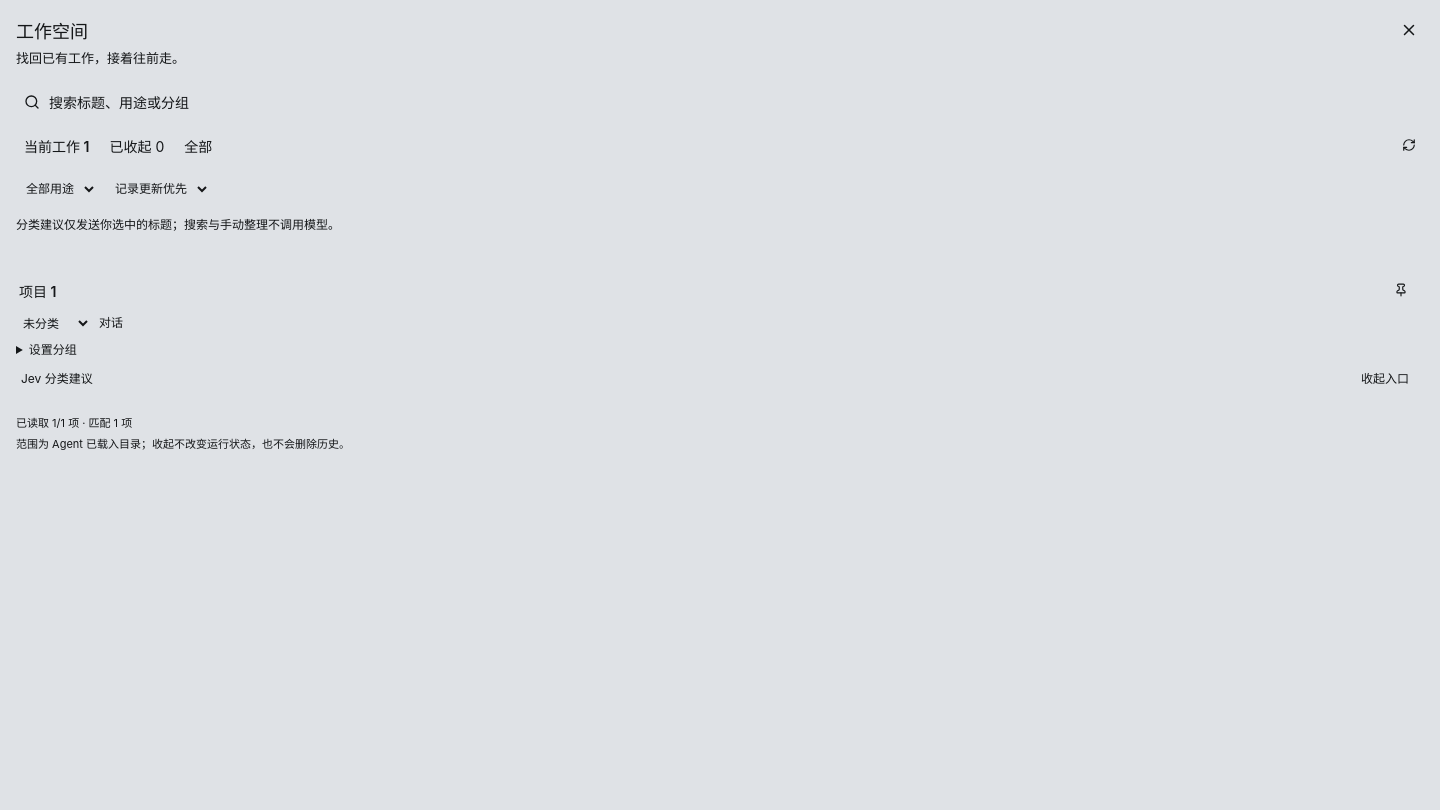
Scenario: OrganizationWorkspace v2.1 integration › syncs a changed stored group while retaining an edited field (edited: false)
Click the heading "设置分组": point(53, 349) [29,342,77,356]
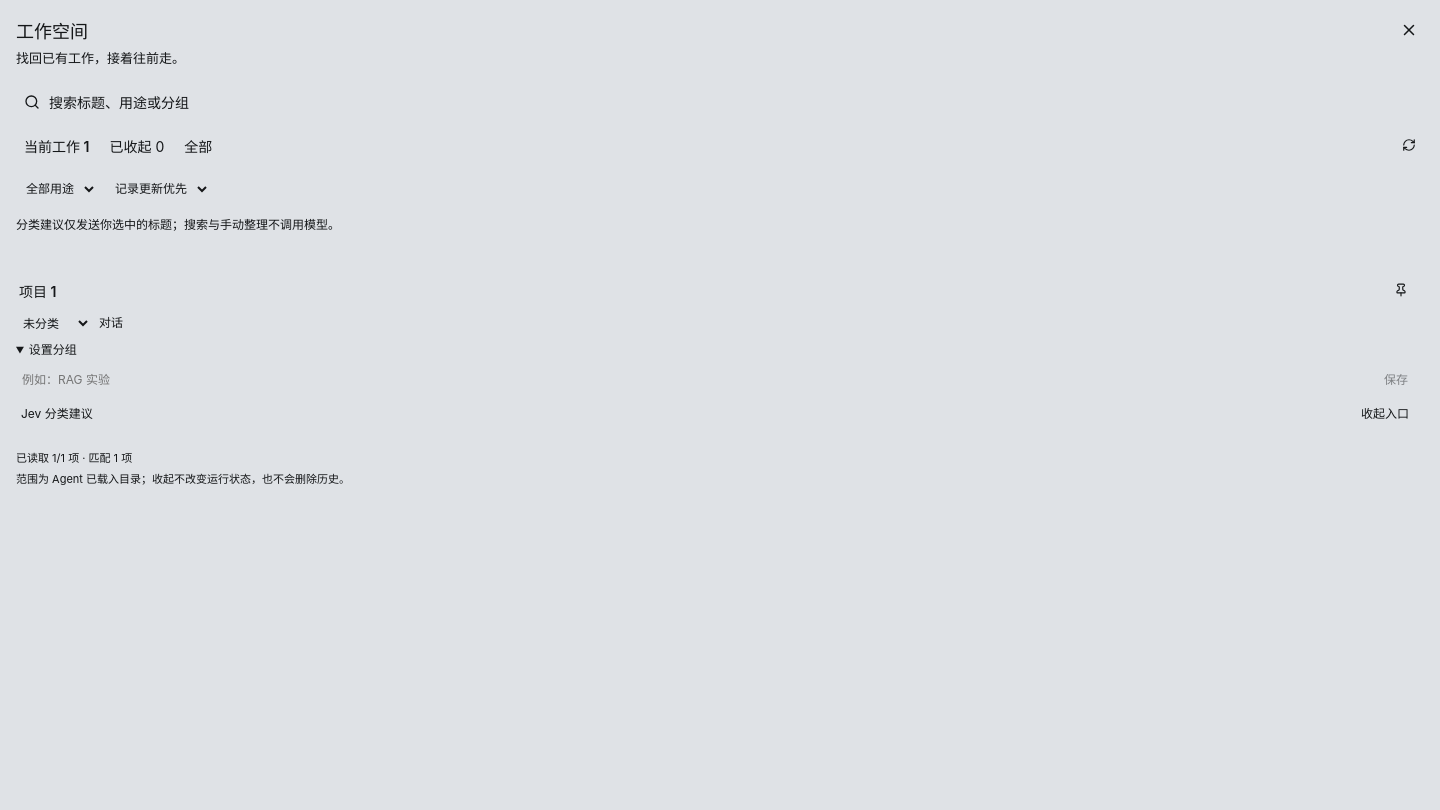
Click the button named "刷新工作目录": point(1409, 146) [1394,132,1424,160]
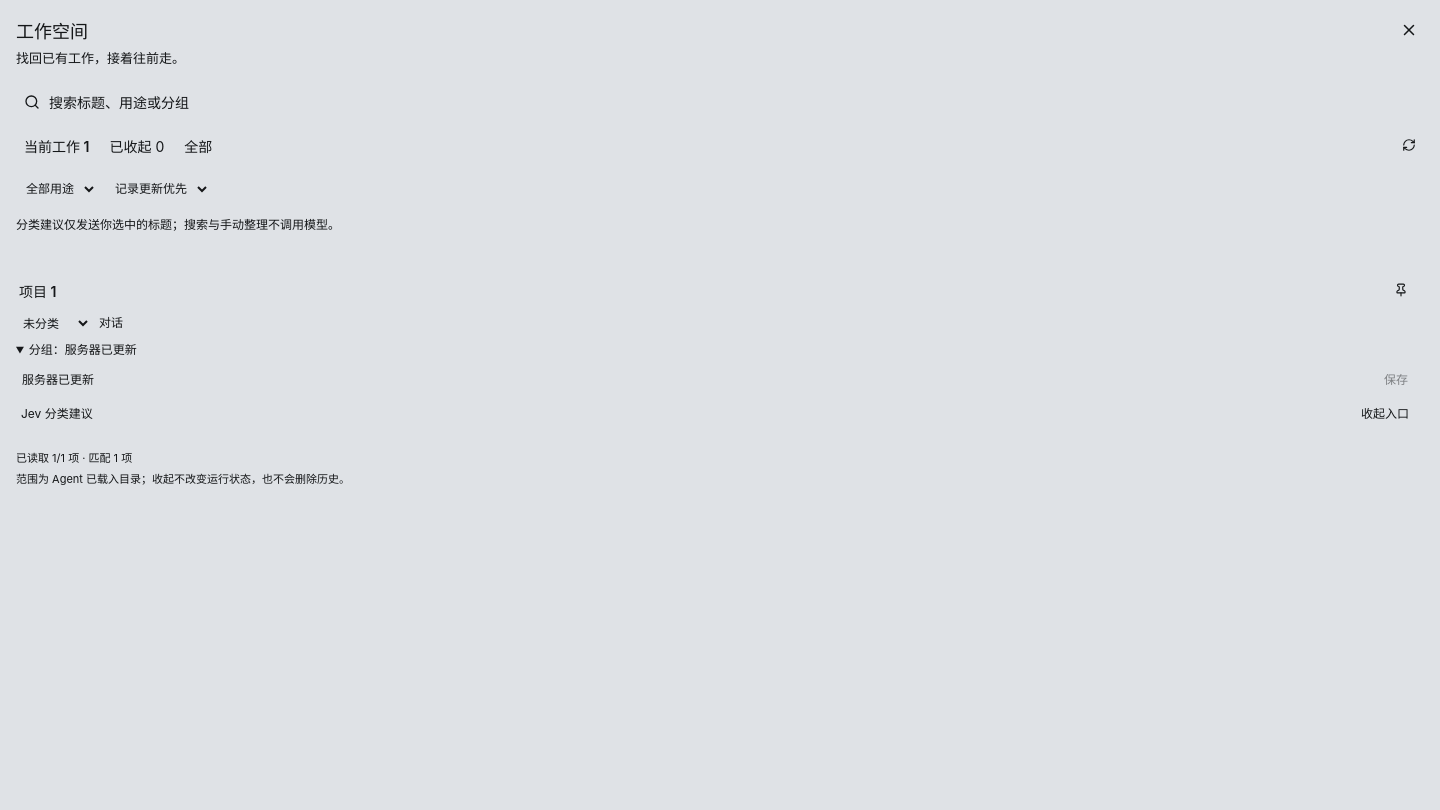
Expected: the heading "分组：服务器已更新" is shown, [29,342,137,356]
Expected: the field named "项目 1的分组" holds "服务器已更新", [16,366,1372,394]
